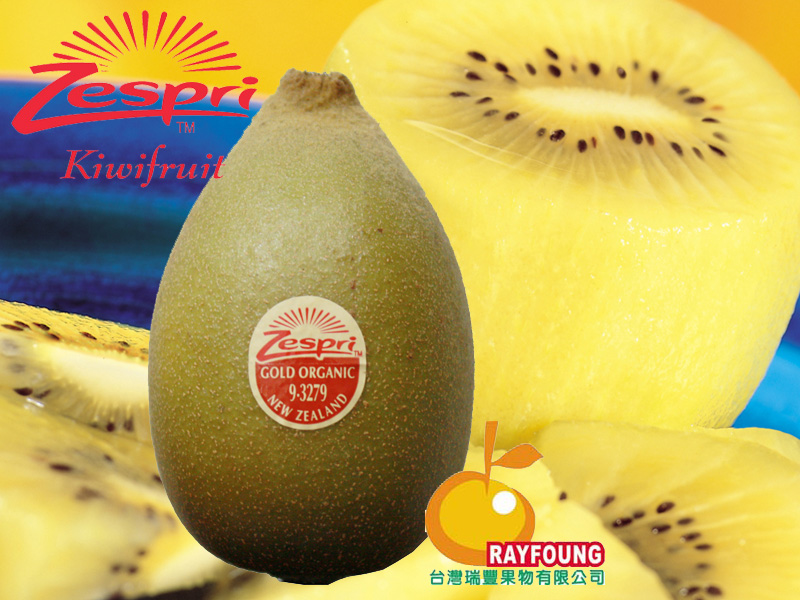kiwi: (149, 69, 472, 583)
